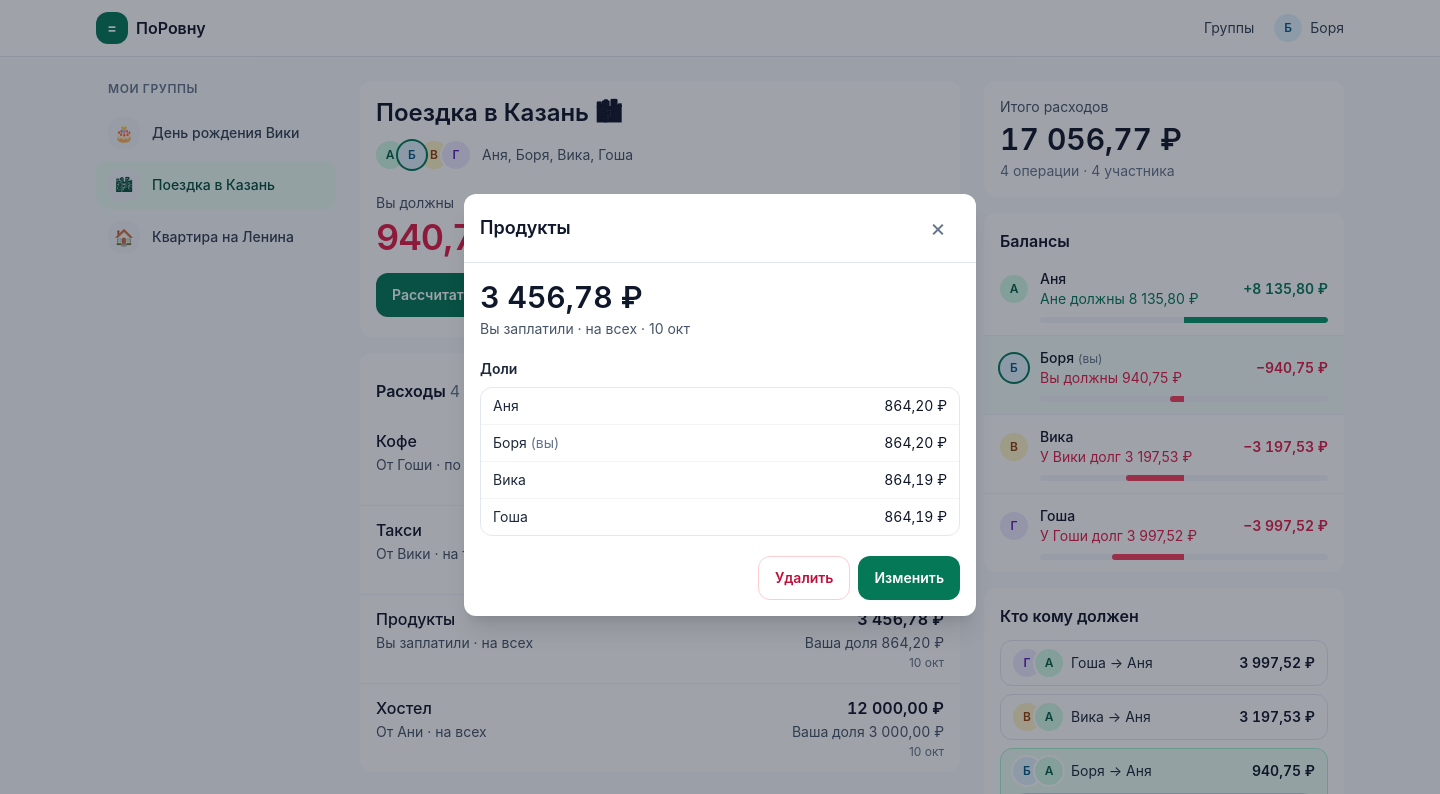
it: отложенное удаление расхода (FR-3.5, AC-T3.4) › после «Отменить» запрос не отправляется никогда
Click the button "Удалить": (804, 578) [758, 556, 850, 600]
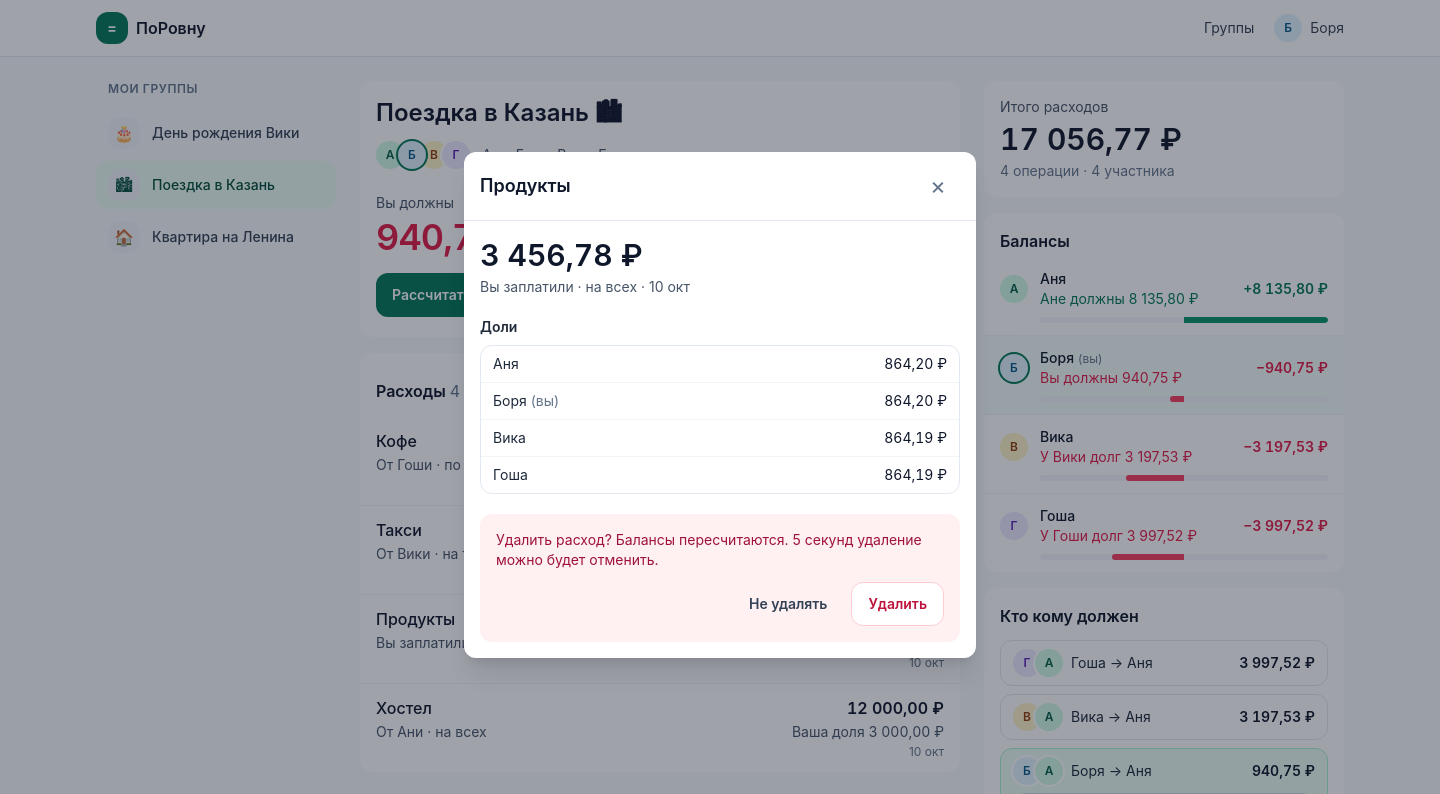
Click the button "Удалить": (898, 604) [851, 582, 944, 626]
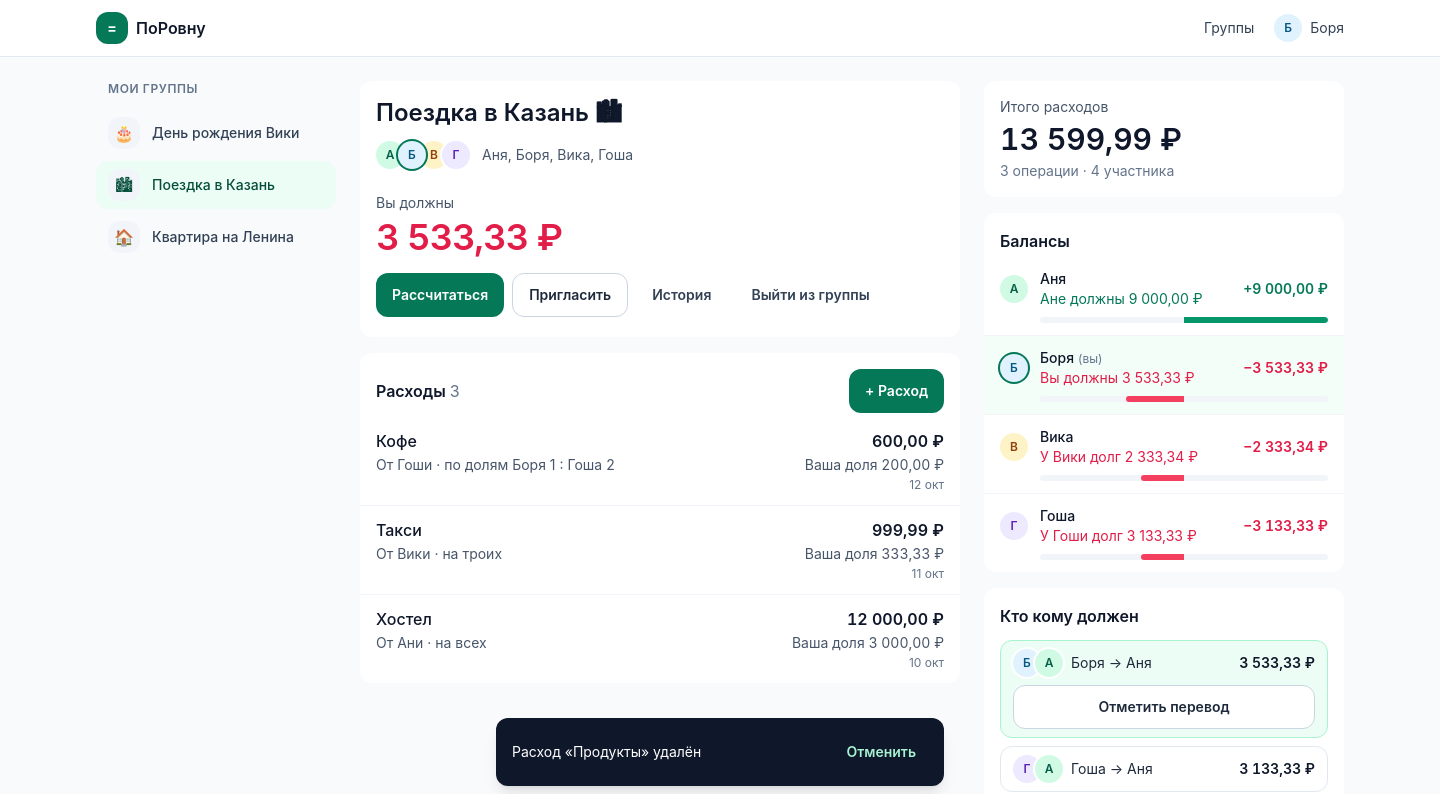
Click the button "Отменить": (881, 752) [834, 730, 928, 774]
Wait 15000 ms
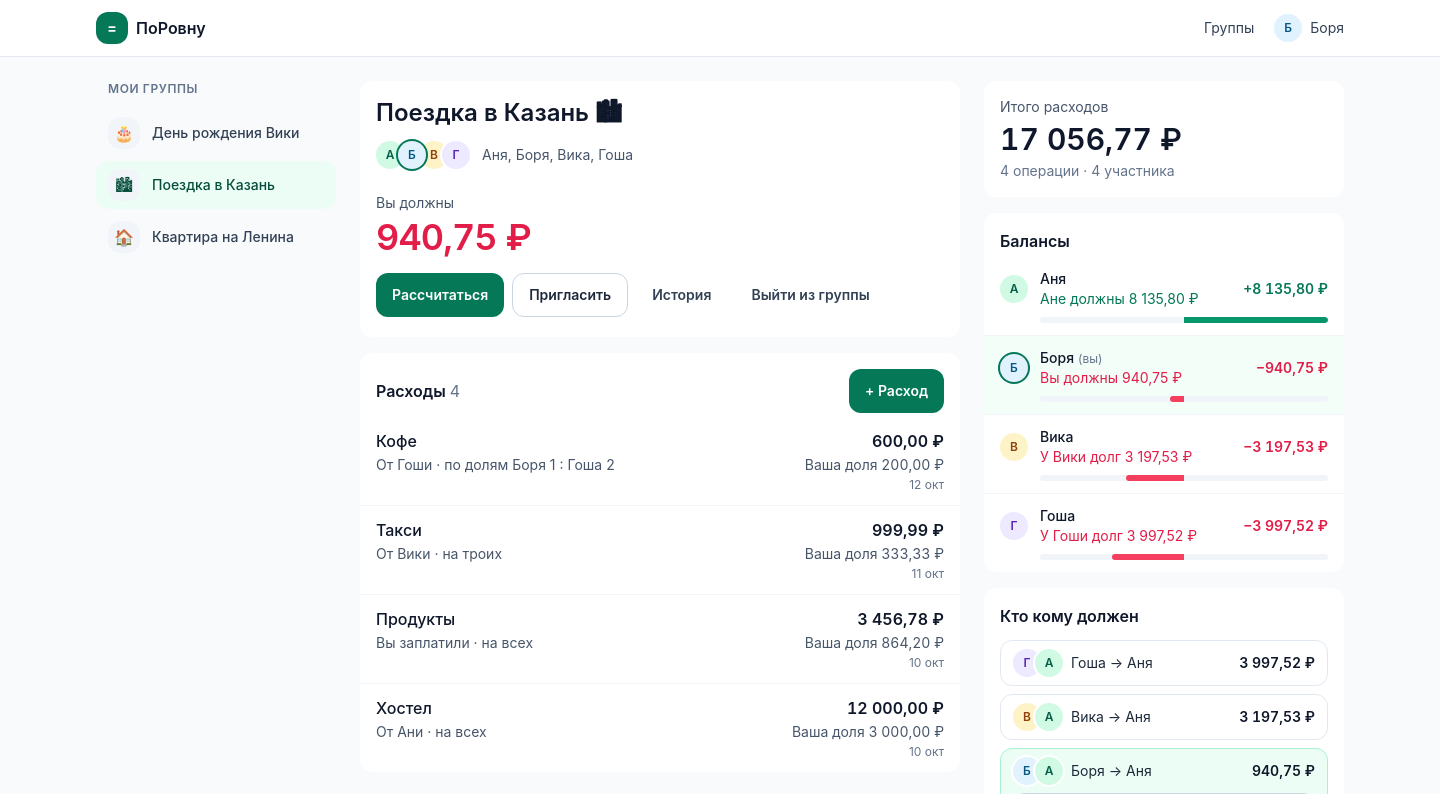
Expected: the link "Продукты" is shown, [360, 595, 960, 683]
